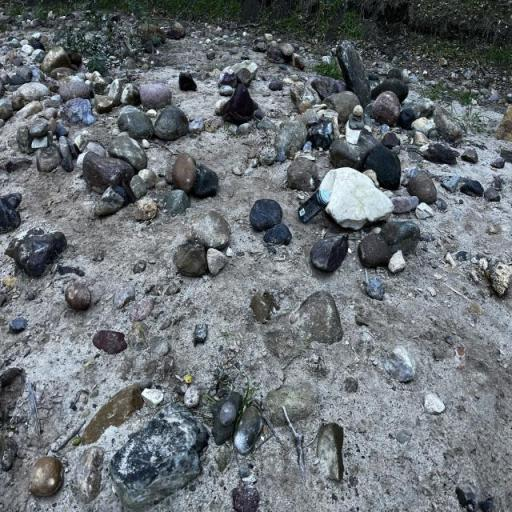bottle: (298, 188, 332, 224)
